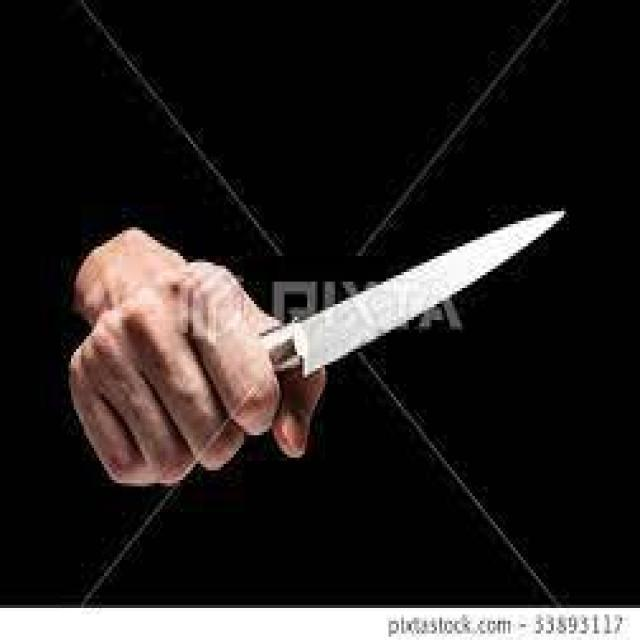faca: (66, 198, 572, 484)
